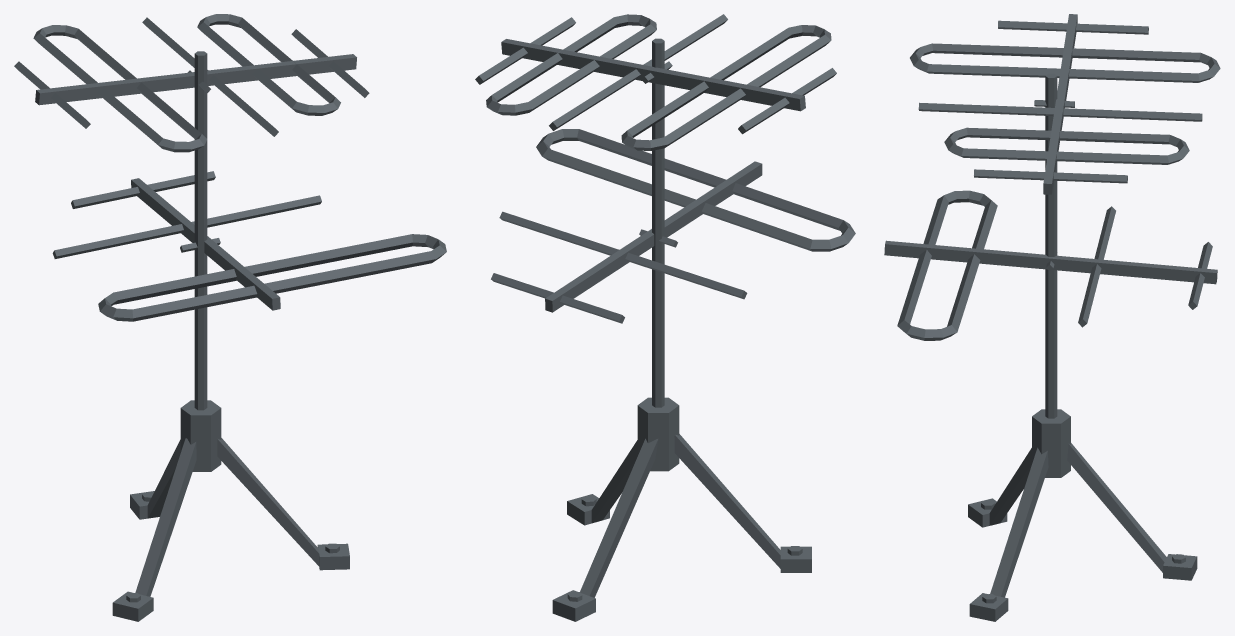
The model's file is SM_Prop_TV_Antenna_02.glb.
3 views of the same model, side by side, from view 1: azimuth 30°, elevation 25°; view 2: azimuth 150°, elevation 25°; view 3: azimuth 270°, elevation 25° (orthographic). The views are drawn at different scales.
Visible parts, largest first — view 1: SM_Prop_TV_Antenna_02; view 2: SM_Prop_TV_Antenna_02; view 3: SM_Prop_TV_Antenna_02.
Part boxes in pixels (x1,y1,x2,y2): SM_Prop_TV_Antenna_02: [14, 14, 446, 621]; SM_Prop_TV_Antenna_02: [475, 14, 855, 621]; SM_Prop_TV_Antenna_02: [884, 14, 1220, 621].
Bounding box in the file's own units: 1.52 × 2.25 × 1.4.
1 material, 1 textured.
